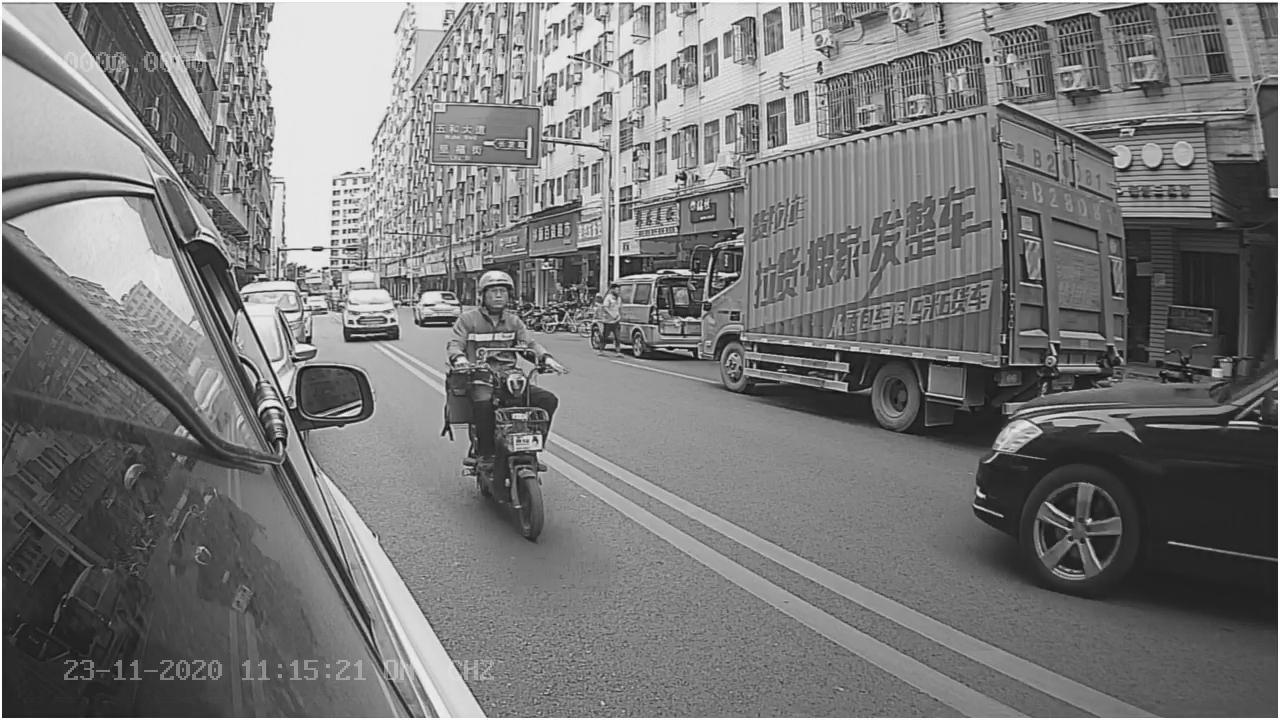person: (441, 265, 571, 368)
